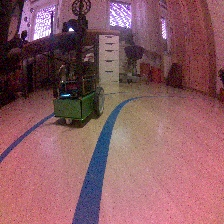rob: (52, 55, 106, 126)
